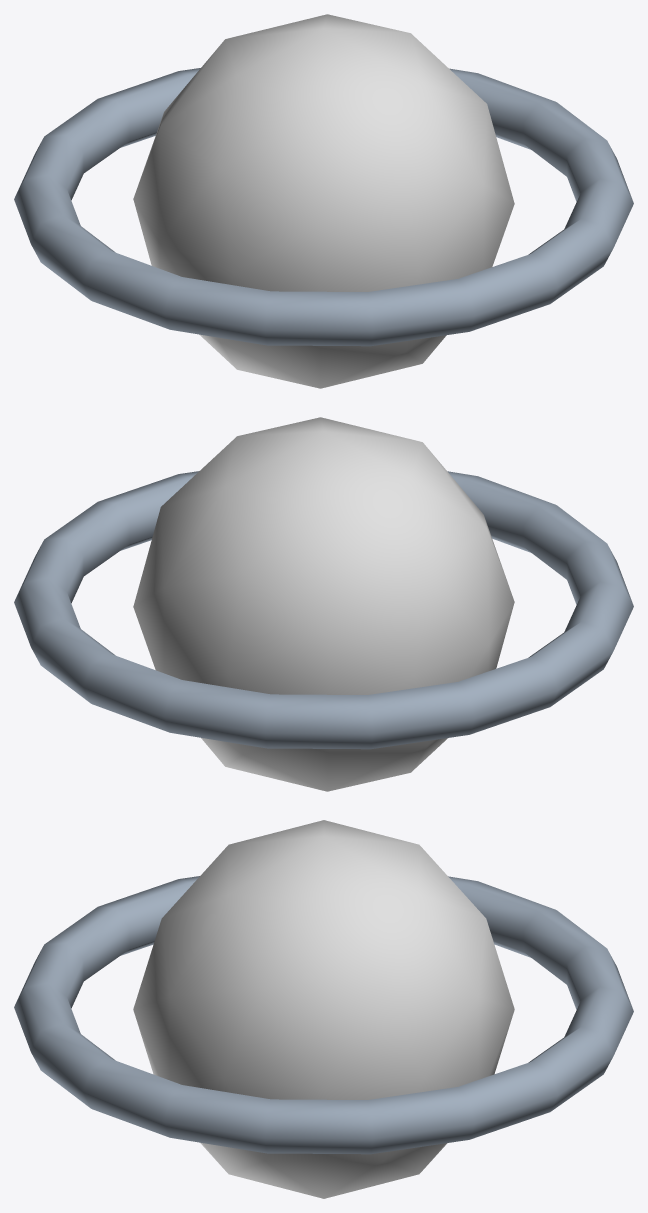
Rendered from skill.glb.
The picture shows the model from 3 angles, top to bottom: view 1: azimuth 30°, elevation 25°; view 2: azimuth 150°, elevation 25°; view 3: azimuth 270°, elevation 25°; orthographic projection.
Visible parts, largest first — view 1: skill_core, skill_ring; view 2: skill_core, skill_ring; view 3: skill_core, skill_ring.
Boxes of the visible parts, x1,y1,x2,y2 form: skill_core: [133, 14, 514, 388]; skill_ring: [14, 68, 633, 346]; skill_core: [133, 417, 514, 791]; skill_ring: [14, 471, 633, 749]; skill_core: [133, 820, 514, 1198]; skill_ring: [14, 876, 633, 1154].
Size of the model in its own units: 0.7703 by 0.48 by 0.7799.
